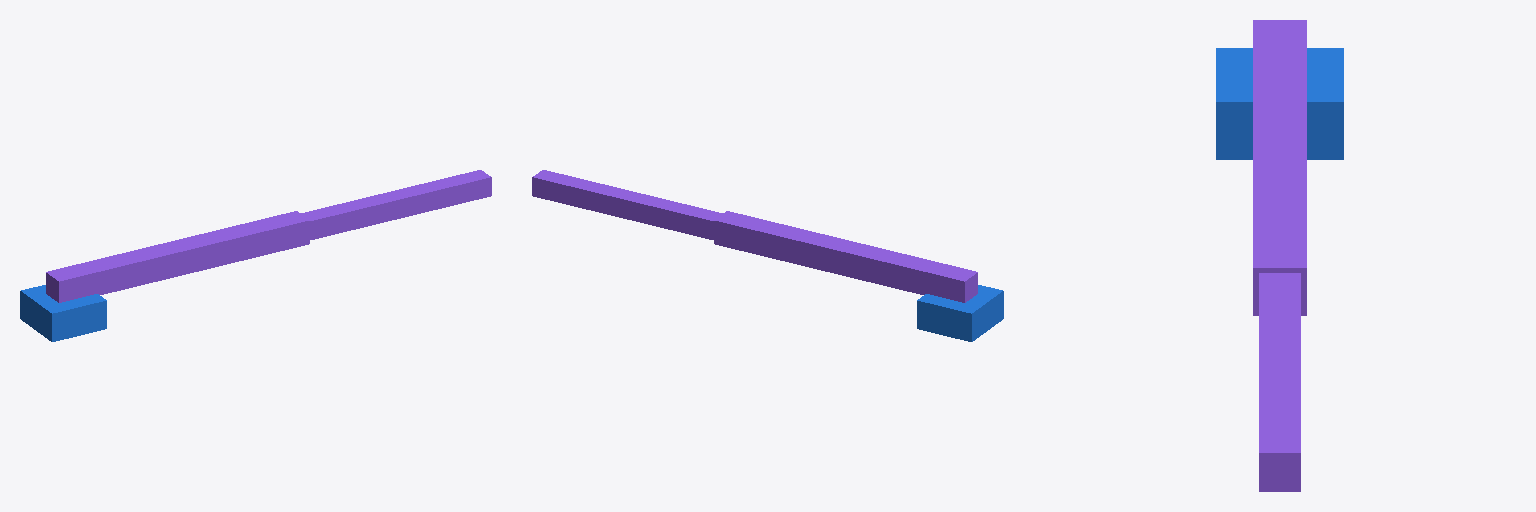
robot.urdf — simple_arm:
<?xml version="1.0"?>
<!-- Lappa aligned 3D robot — package simple_arm -->
<robot name="simple_arm">
  <link name="base_footprint"/>
  <joint name="base_joint" type="fixed">
    <parent link="base_footprint"/>
    <child link="base_link"/>
    <origin xyz="0 0 0.03000" rpy="0 0 0"/>
  </joint>

  <link name="base_link">
    <visual>
      <origin xyz="0 0 0" rpy="0 0 0"/>
      <geometry>
        <mesh filename="package://simple_arm/meshes/simple_arm_chassis.obj" scale="1 1 1"/>
      </geometry>
      <material name="lappa_mesh">
        <color rgba="0.2 0.55 0.95 1"/>
      </material>
    </visual>
    <collision>
      <origin xyz="0 0 0" rpy="0 0 0"/>
      <geometry>
        <mesh filename="package://simple_arm/meshes/simple_arm_chassis.obj" scale="1 1 1"/>
      </geometry>
    </collision>
  </link>

  <link name="link1">
    <visual>
      <origin xyz="0 0 0" rpy="0 0 0"/>
      <geometry>
        <mesh filename="package://simple_arm/meshes/simple_arm_link1.obj" scale="1 1 1"/>
      </geometry>
      <material name="lappa_mesh">
        <color rgba="0.64 0.44 0.97 1"/>
      </material>
    </visual>
    <collision>
      <origin xyz="0 0 0" rpy="0 0 0"/>
      <geometry>
        <mesh filename="package://simple_arm/meshes/simple_arm_link1.obj" scale="1 1 1"/>
      </geometry>
    </collision>
  </link>

  <joint name="link1_joint" type="fixed">
    <parent link="base_link"/>
    <child link="link1"/>
    <origin xyz="0.25000 0.00000 0.05000" rpy="0 0 0"/>
  </joint>

  <link name="link2">
    <visual>
      <origin xyz="0 0 0" rpy="0 0 0"/>
      <geometry>
        <mesh filename="package://simple_arm/meshes/simple_arm_link2.obj" scale="1 1 1"/>
      </geometry>
      <material name="lappa_mesh">
        <color rgba="0.64 0.44 0.97 1"/>
      </material>
    </visual>
    <collision>
      <origin xyz="0 0 0" rpy="0 0 0"/>
      <geometry>
        <mesh filename="package://simple_arm/meshes/simple_arm_link2.obj" scale="1 1 1"/>
      </geometry>
    </collision>
  </link>

  <joint name="link2_joint" type="fixed">
    <parent link="base_link"/>
    <child link="link2"/>
    <origin xyz="0.70000 0.00000 0.05000" rpy="0 0 0"/>
  </joint>

</robot>

--- What the picture shows (computed from the rendered views, not written in the file) ---
The picture shows the robot from 3 angles, left to right: view 1: azimuth 30°, elevation 25°; view 2: azimuth 150°, elevation 25°; view 3: azimuth 270°, elevation 25°; orthographic projection.
Robot: simple_arm — 4 links, 3 joints (3 fixed); root link base_footprint; default pose: all joints at 0.
Links seen in each view (by area): view 1: link1, link2, base_link; view 2: link1, link2, base_link; view 3: link1, link2, base_link.
Boxes of the visible links, <box> form: link1: <box>46,211,309,302</box>; link2: <box>301,170,491,239</box>; base_link: <box>20,285,106,341</box>; link1: <box>714,211,977,302</box>; link2: <box>532,170,722,239</box>; base_link: <box>917,285,1003,341</box>; link1: <box>1253,20,1306,315</box>; link2: <box>1259,273,1300,491</box>; base_link: <box>1216,48,1343,159</box>.
Size in the robot's own frame: 0.985 by 0.12 by 0.105 metres.
3 mesh visuals loaded from 3 distinct referenced files (3 OBJ).
